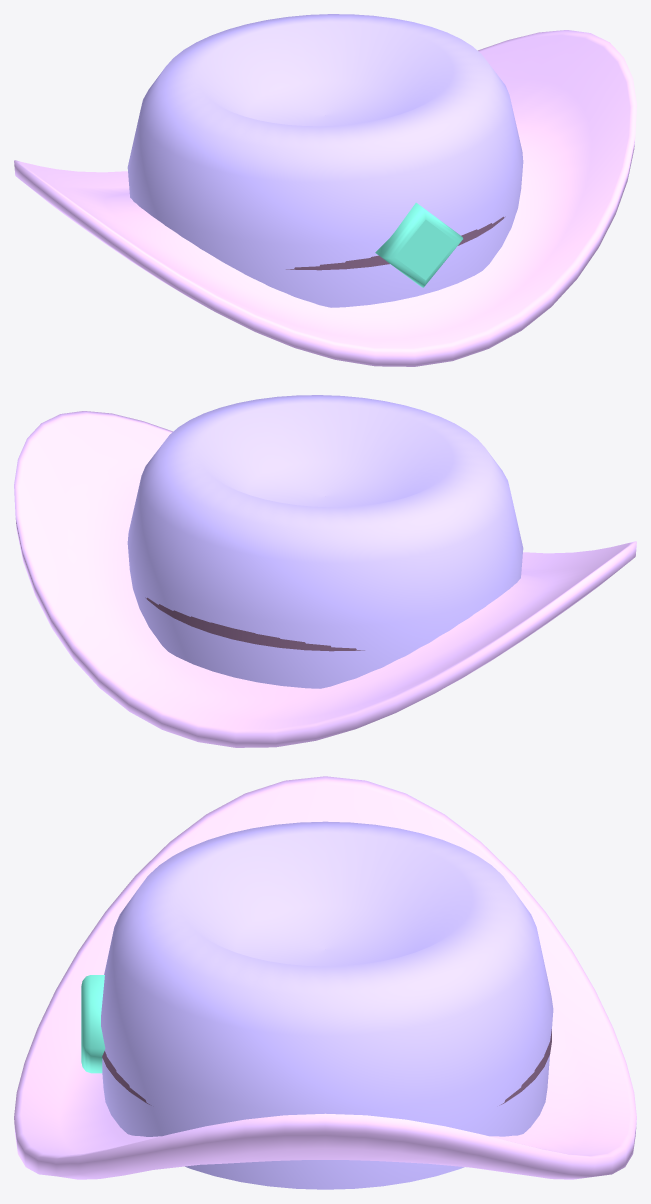
File: lilac_rodeo.glb
3 views of the same model, one above another, from view 1: azimuth 30°, elevation 25°; view 2: azimuth 150°, elevation 25°; view 3: azimuth 270°, elevation 25° (orthographic). The views are drawn at different scales.
Visible parts, largest first — view 1: Lilac Rodeo Hat; view 2: Lilac Rodeo Hat; view 3: Lilac Rodeo Hat.
Boxes of the visible parts, x1,y1,x2,y2 form: Lilac Rodeo Hat: [14, 14, 636, 366]; Lilac Rodeo Hat: [14, 395, 636, 747]; Lilac Rodeo Hat: [14, 776, 636, 1189].
Size of the model in its own units: 1 by 0.3304 by 0.78.
